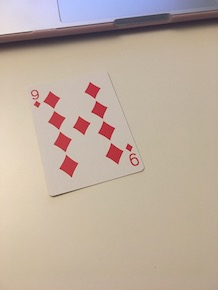NineOfDiamonds: (24, 69, 148, 199)
